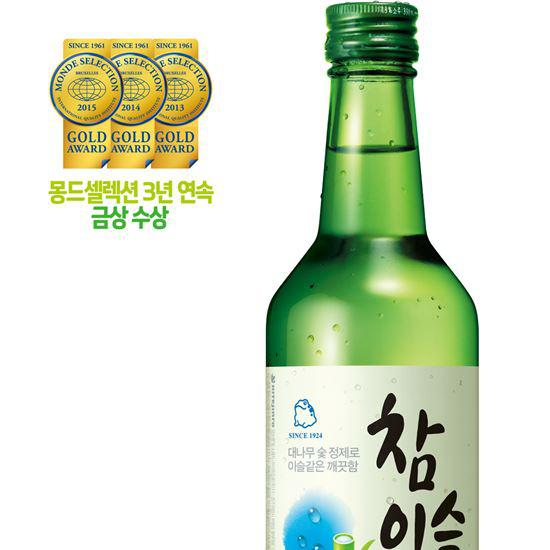soju: (259, 2, 483, 550)
